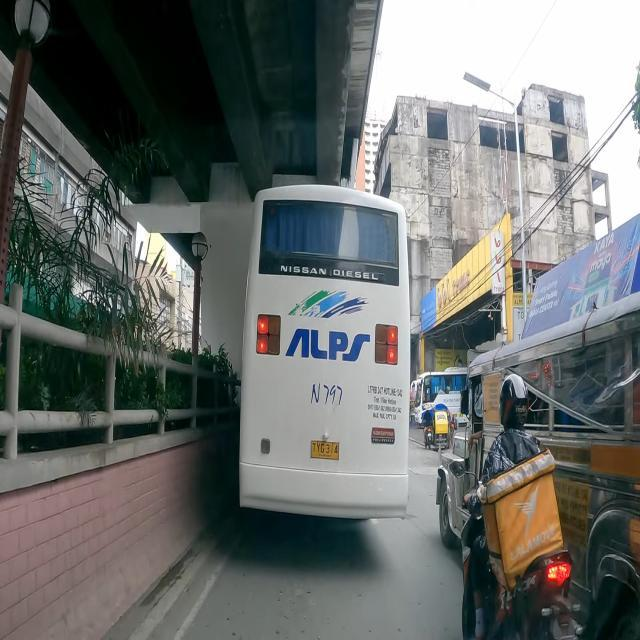bus: (238, 184, 412, 521), (411, 367, 468, 425)
jeepney: (436, 212, 640, 640)
motorcycle: (460, 372, 583, 640)
tricycle: (422, 402, 452, 449)
